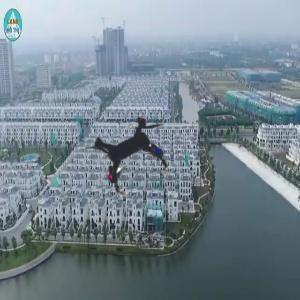drone: (58, 75, 209, 226)
